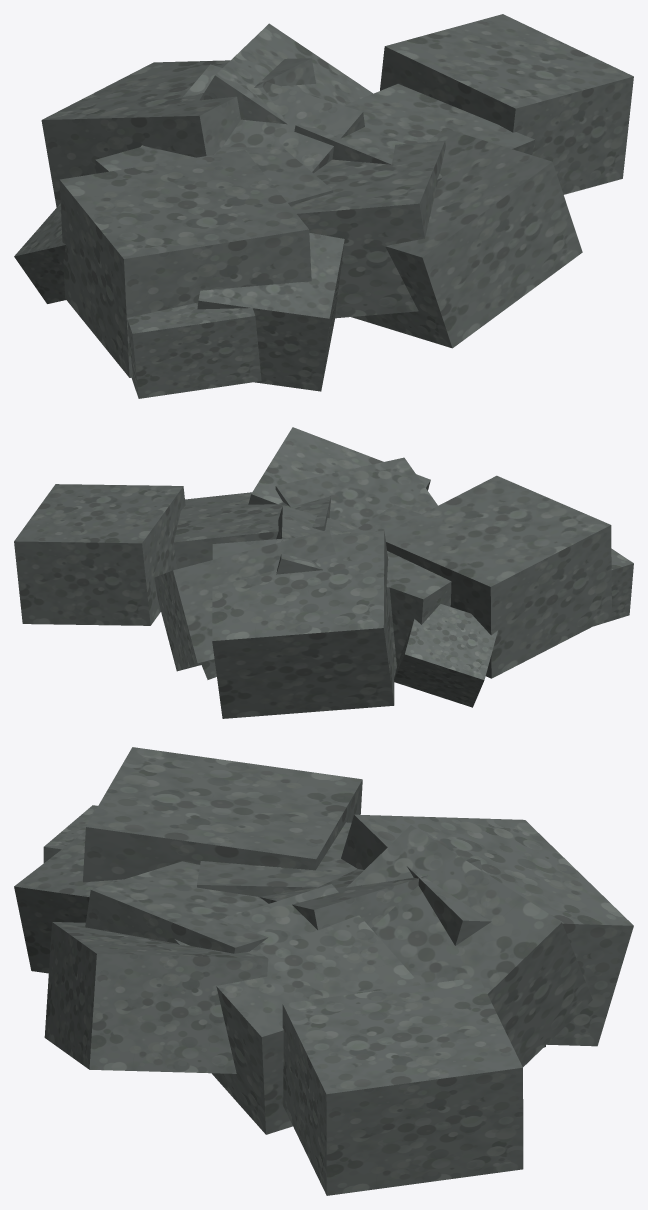
Rendered from en-005_beach_stone_cluster__large.obj.
3 renders of one model, top to bottom at view 1: azimuth 30°, elevation 25°; view 2: azimuth 150°, elevation 25°; view 3: azimuth 270°, elevation 25°, orthographic. The views are drawn at different scales.
Visible parts, largest first — view 1: en-005_beach_stone_cluster__large; view 2: en-005_beach_stone_cluster__large; view 3: en-005_beach_stone_cluster__large.
Boxes of the visible parts, x1,y1,x2,y2 form: en-005_beach_stone_cluster__large: (14,14,633,398); en-005_beach_stone_cluster__large: (14,427,633,718); en-005_beach_stone_cluster__large: (14,747,633,1195).
Bounding box in the file's own units: 2.5 × 0.7838 × 2.05.
Materials: 1 (1 with a texture image).
